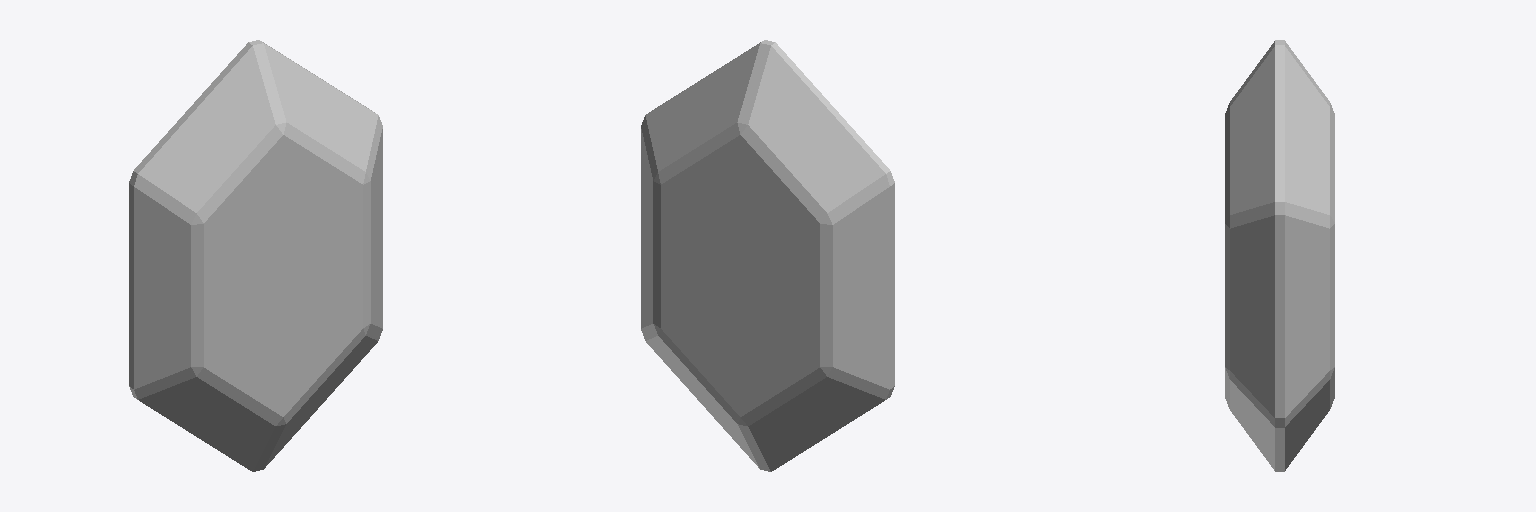
The model's file is rupee.obj.
The picture shows the model from 3 angles: view 1: azimuth 30°, elevation 25°; view 2: azimuth 150°, elevation 25°; view 3: azimuth 270°, elevation 25°; orthographic projection.
Visible parts, largest first — view 1: Plane; view 2: Plane; view 3: Plane.
Part boxes in pixels (x1,y1,x2,y2): Plane: (129, 40, 382, 471); Plane: (641, 40, 894, 471); Plane: (1225, 40, 1334, 471).
Bounding box in the file's own units: 1.05 × 1.71 × 0.4.